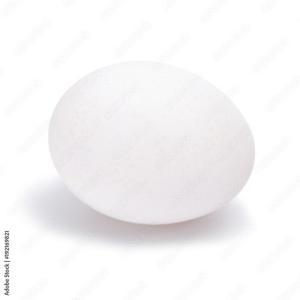Egg: (46, 58, 257, 228)
